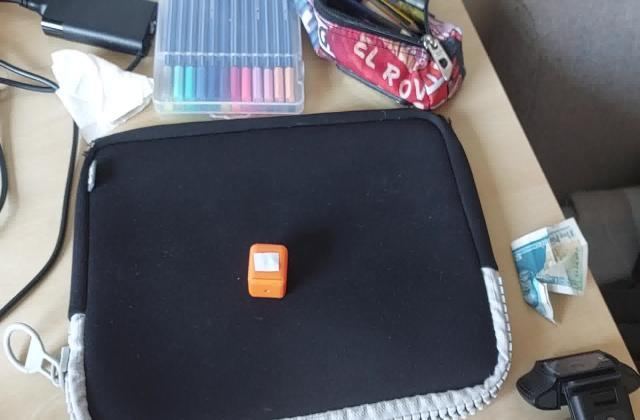sticker: (247, 243, 290, 300)
white: (253, 250, 284, 274)
